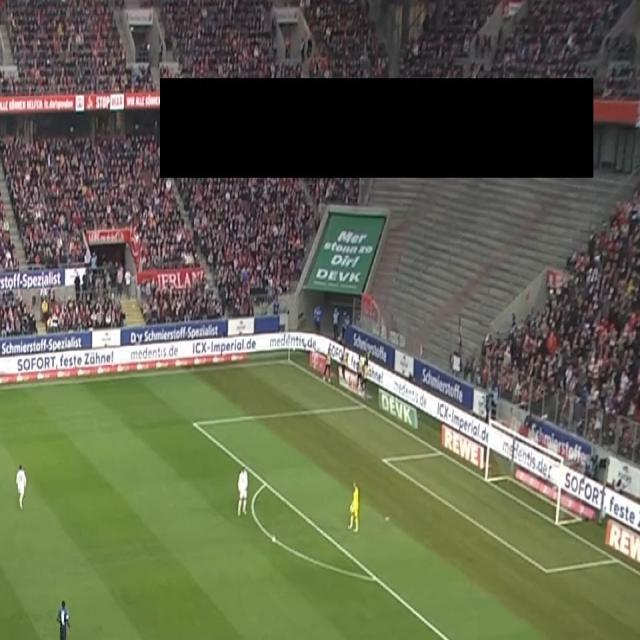ball: (271, 534, 277, 544)
